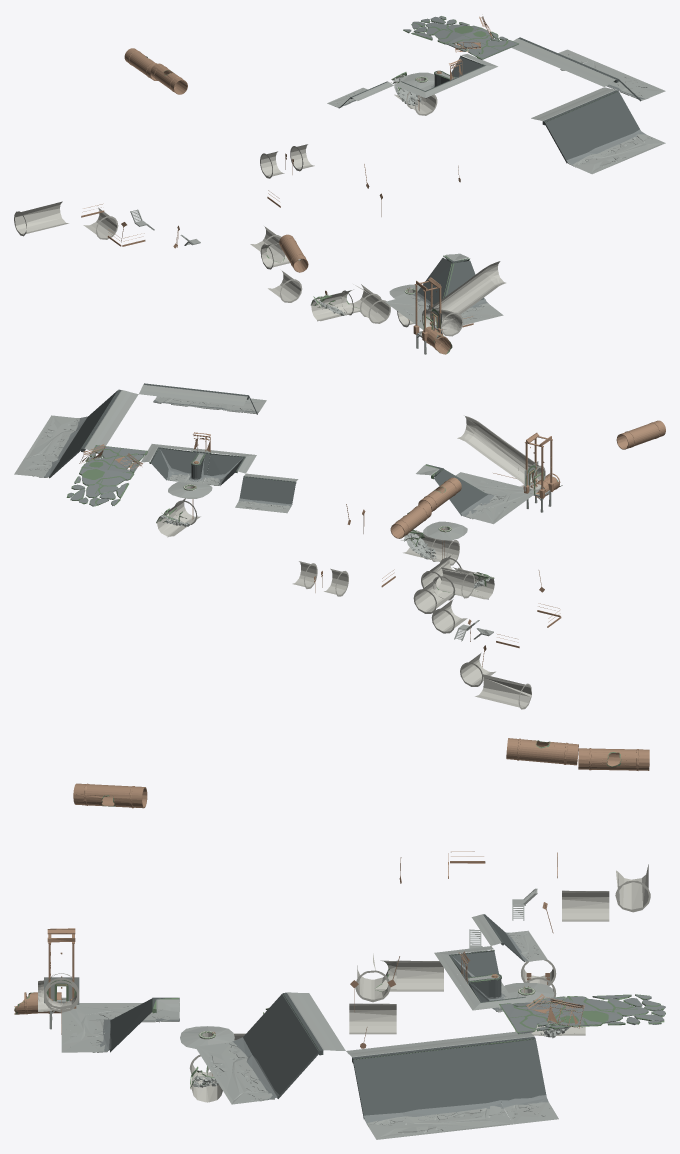
File: radtown_small_3-map.glb
3 renders of one model, top to bottom at view 1: azimuth 30°, elevation 25°; view 2: azimuth 150°, elevation 25°; view 3: azimuth 270°, elevation 25°, orthographic. The views are drawn at different scales.
Parts seen in each view (by area): view 1: sewer_drainwall_600_LOD0, sewer_tunnel_600, sewer_drainwall_600_bridge_LOD0; view 2: sewer_drainwall_600_LOD0, sewer_tunnel_600, sewer_drainwall_600_bridge_LOD0; view 3: sewer_drainwall_600_LOD0, sewer_tunnel_600, sewer_drainwall_600_bridge_LOD0.
Boxes of the visible parts, x1,y1,x2,y2 form: sewer_drainwall_600_LOD0: (130,16,665,354); sewer_tunnel_600: (14,74,505,336); sewer_drainwall_600_bridge_LOD0: (81,16,492,354); sewer_drainwall_600_LOD0: (14,383,562,641); sewer_tunnel_600: (156,415,545,709); sewer_drainwall_600_bridge_LOD0: (79,420,665,666); sewer_drainwall_600_LOD0: (15,740,665,1139); sewer_tunnel_600: (38,864,650,1102); sewer_drainwall_600_bridge_LOD0: (14,738,649,1076).
Size of the model in its own units: 110 by 36.78 by 82.71.
